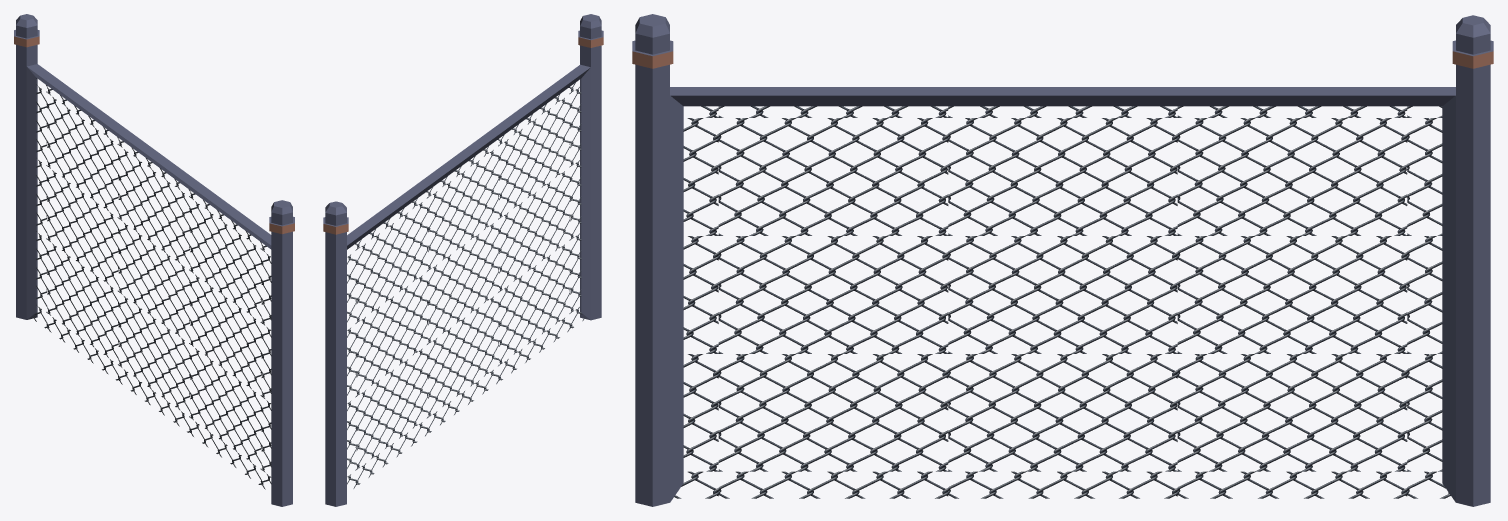
File: Fence.fbx
3 views of the same model, side by side, from view 1: azimuth 30°, elevation 25°; view 2: azimuth 150°, elevation 25°; view 3: azimuth 270°, elevation 25° (orthographic). The views are drawn at different scales.
Visible parts, largest first — view 1: Fencepalen; view 2: Fencepalen; view 3: Fencepalen.
Part boxes in pixels (<box>): Fencepalen: <box>14,14,294,506</box>; Fencepalen: <box>323,14,603,506</box>; Fencepalen: <box>632,14,1493,506</box>.
Bounding box in the file's own units: 0.2427 × 2.7 × 4.41.
